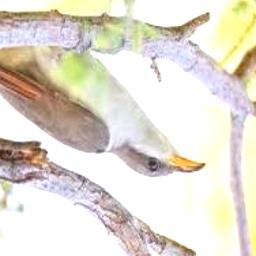Cuckoo: (0, 32, 206, 177)
